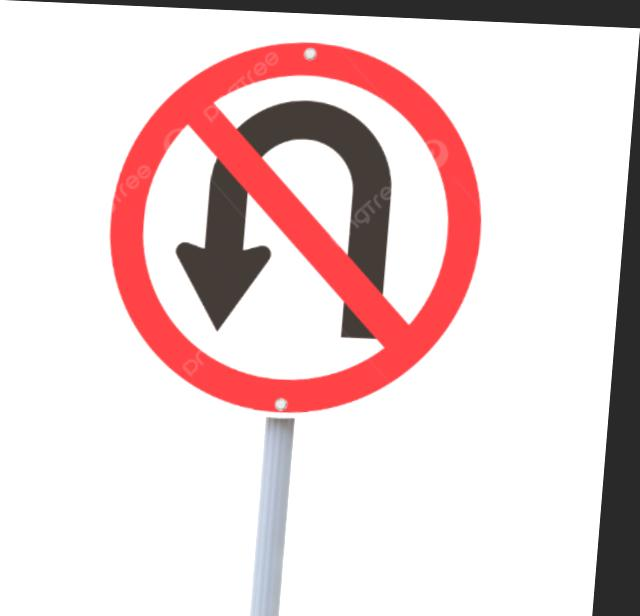not_u_turn_left: (86, 16, 511, 428)
